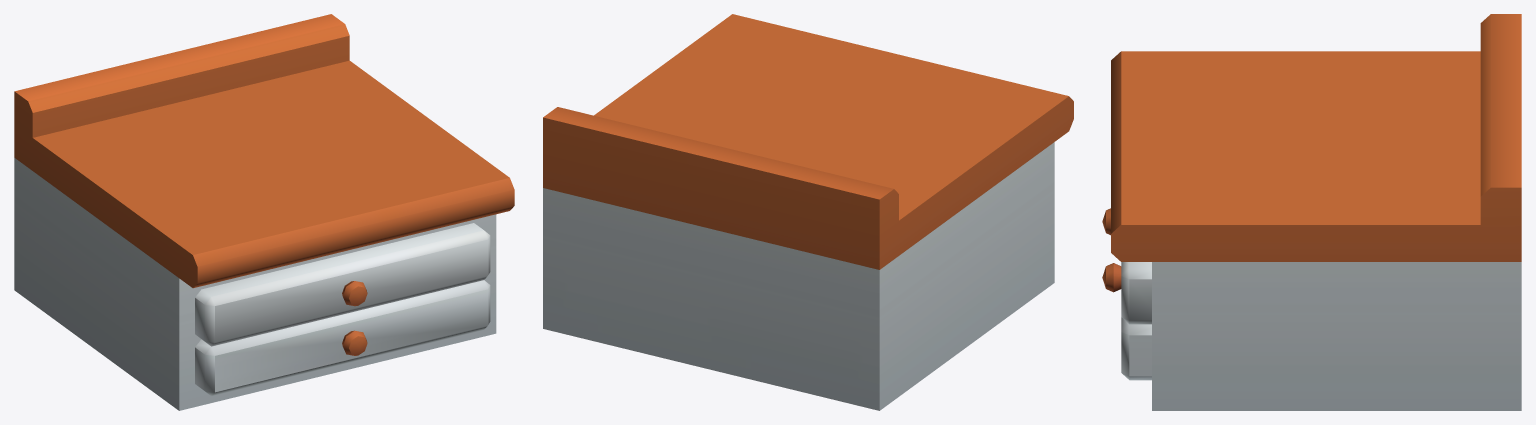
The model's file is kaykit-restaurant-bits-kitchencounter-straight-a-backsplash.glb.
The picture shows the model from 3 angles, left to right: view 1: azimuth 30°, elevation 25°; view 2: azimuth 150°, elevation 25°; view 3: azimuth 270°, elevation 25°; orthographic projection. The views are drawn at different scales.
Visible parts, largest first — view 1: kitchencounter_straight_A_backsplash; view 2: kitchencounter_straight_A_backsplash; view 3: kitchencounter_straight_A_backsplash.
Boxes of the visible parts, x1,y1,x2,y2 form: kitchencounter_straight_A_backsplash: (14, 14, 514, 410); kitchencounter_straight_A_backsplash: (543, 14, 1073, 410); kitchencounter_straight_A_backsplash: (1102, 14, 1521, 410).
Size of the model in its own units: 2 by 1.2 by 2.04.
1 material, 1 textured.
